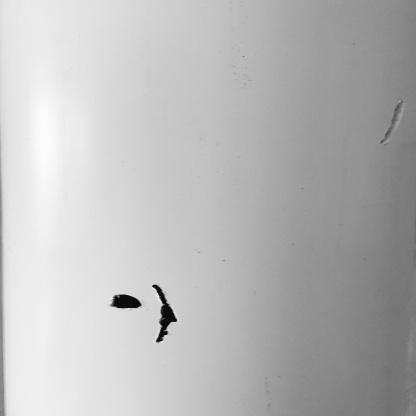kongdong: (150, 278, 184, 349), (107, 290, 146, 320)
sunshang: (375, 94, 406, 149)
